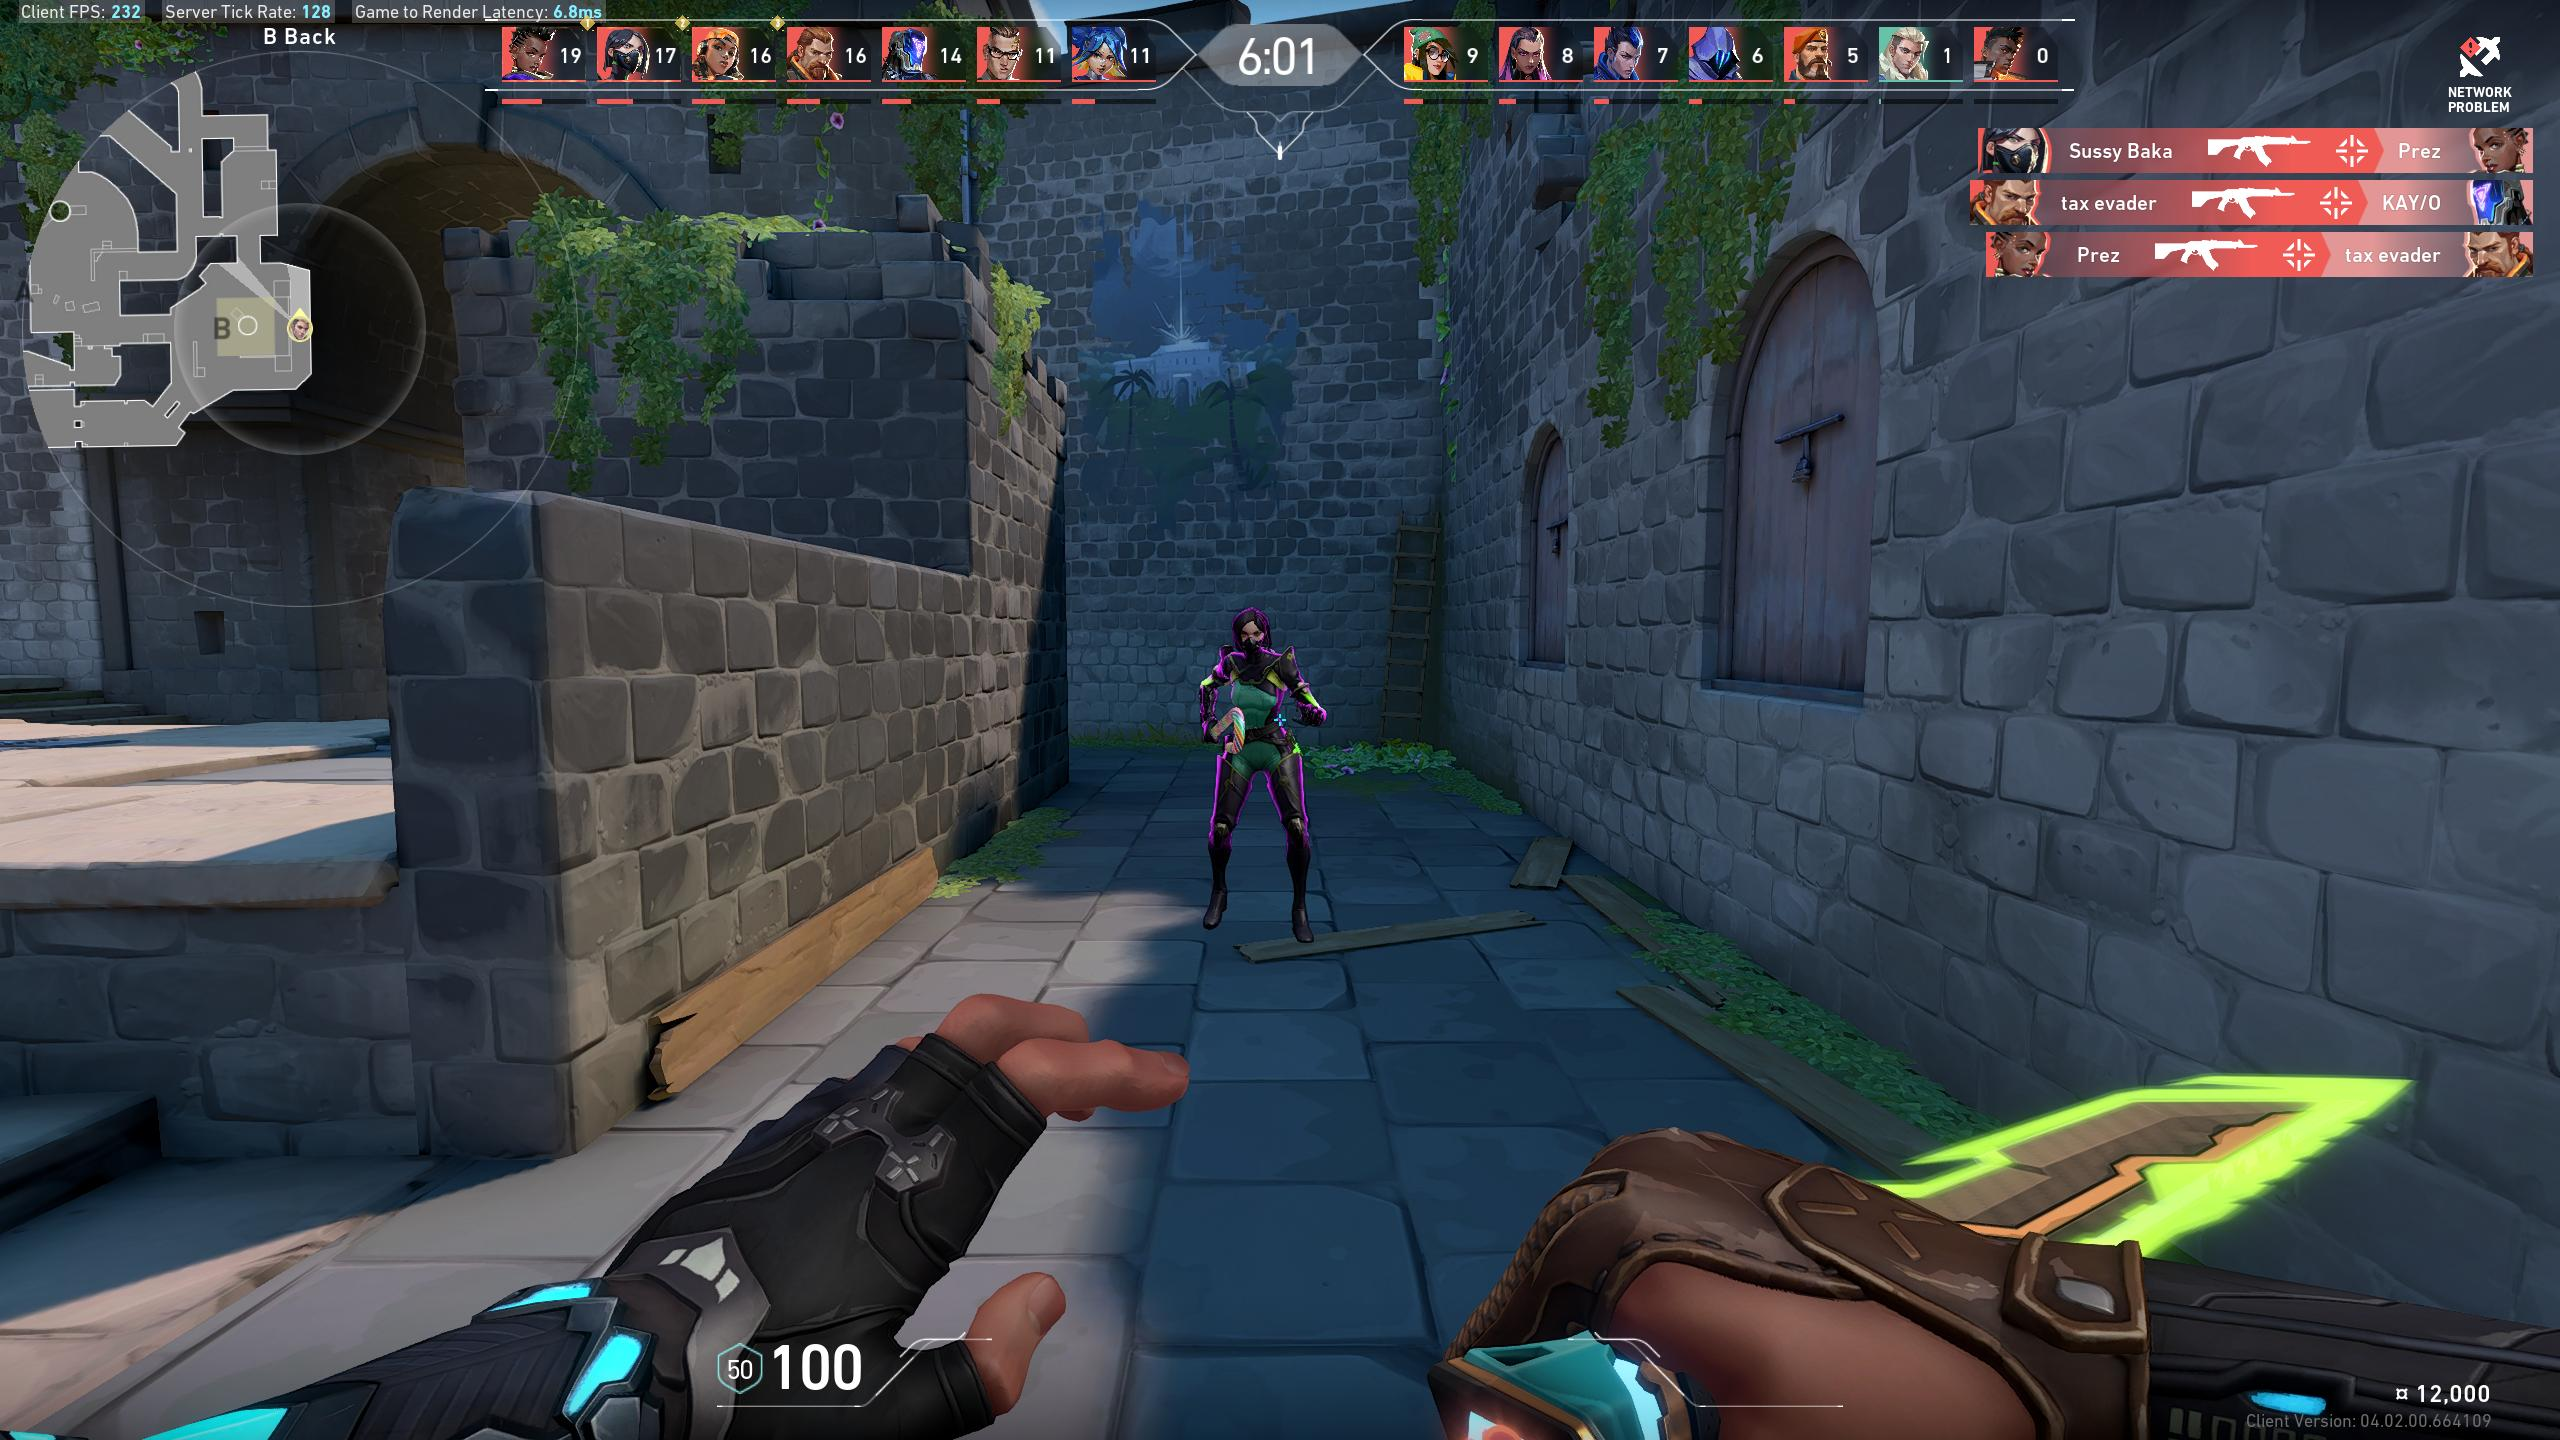enemyBody: (1234, 663, 1276, 726)
enemyHead: (1240, 622, 1261, 647)
